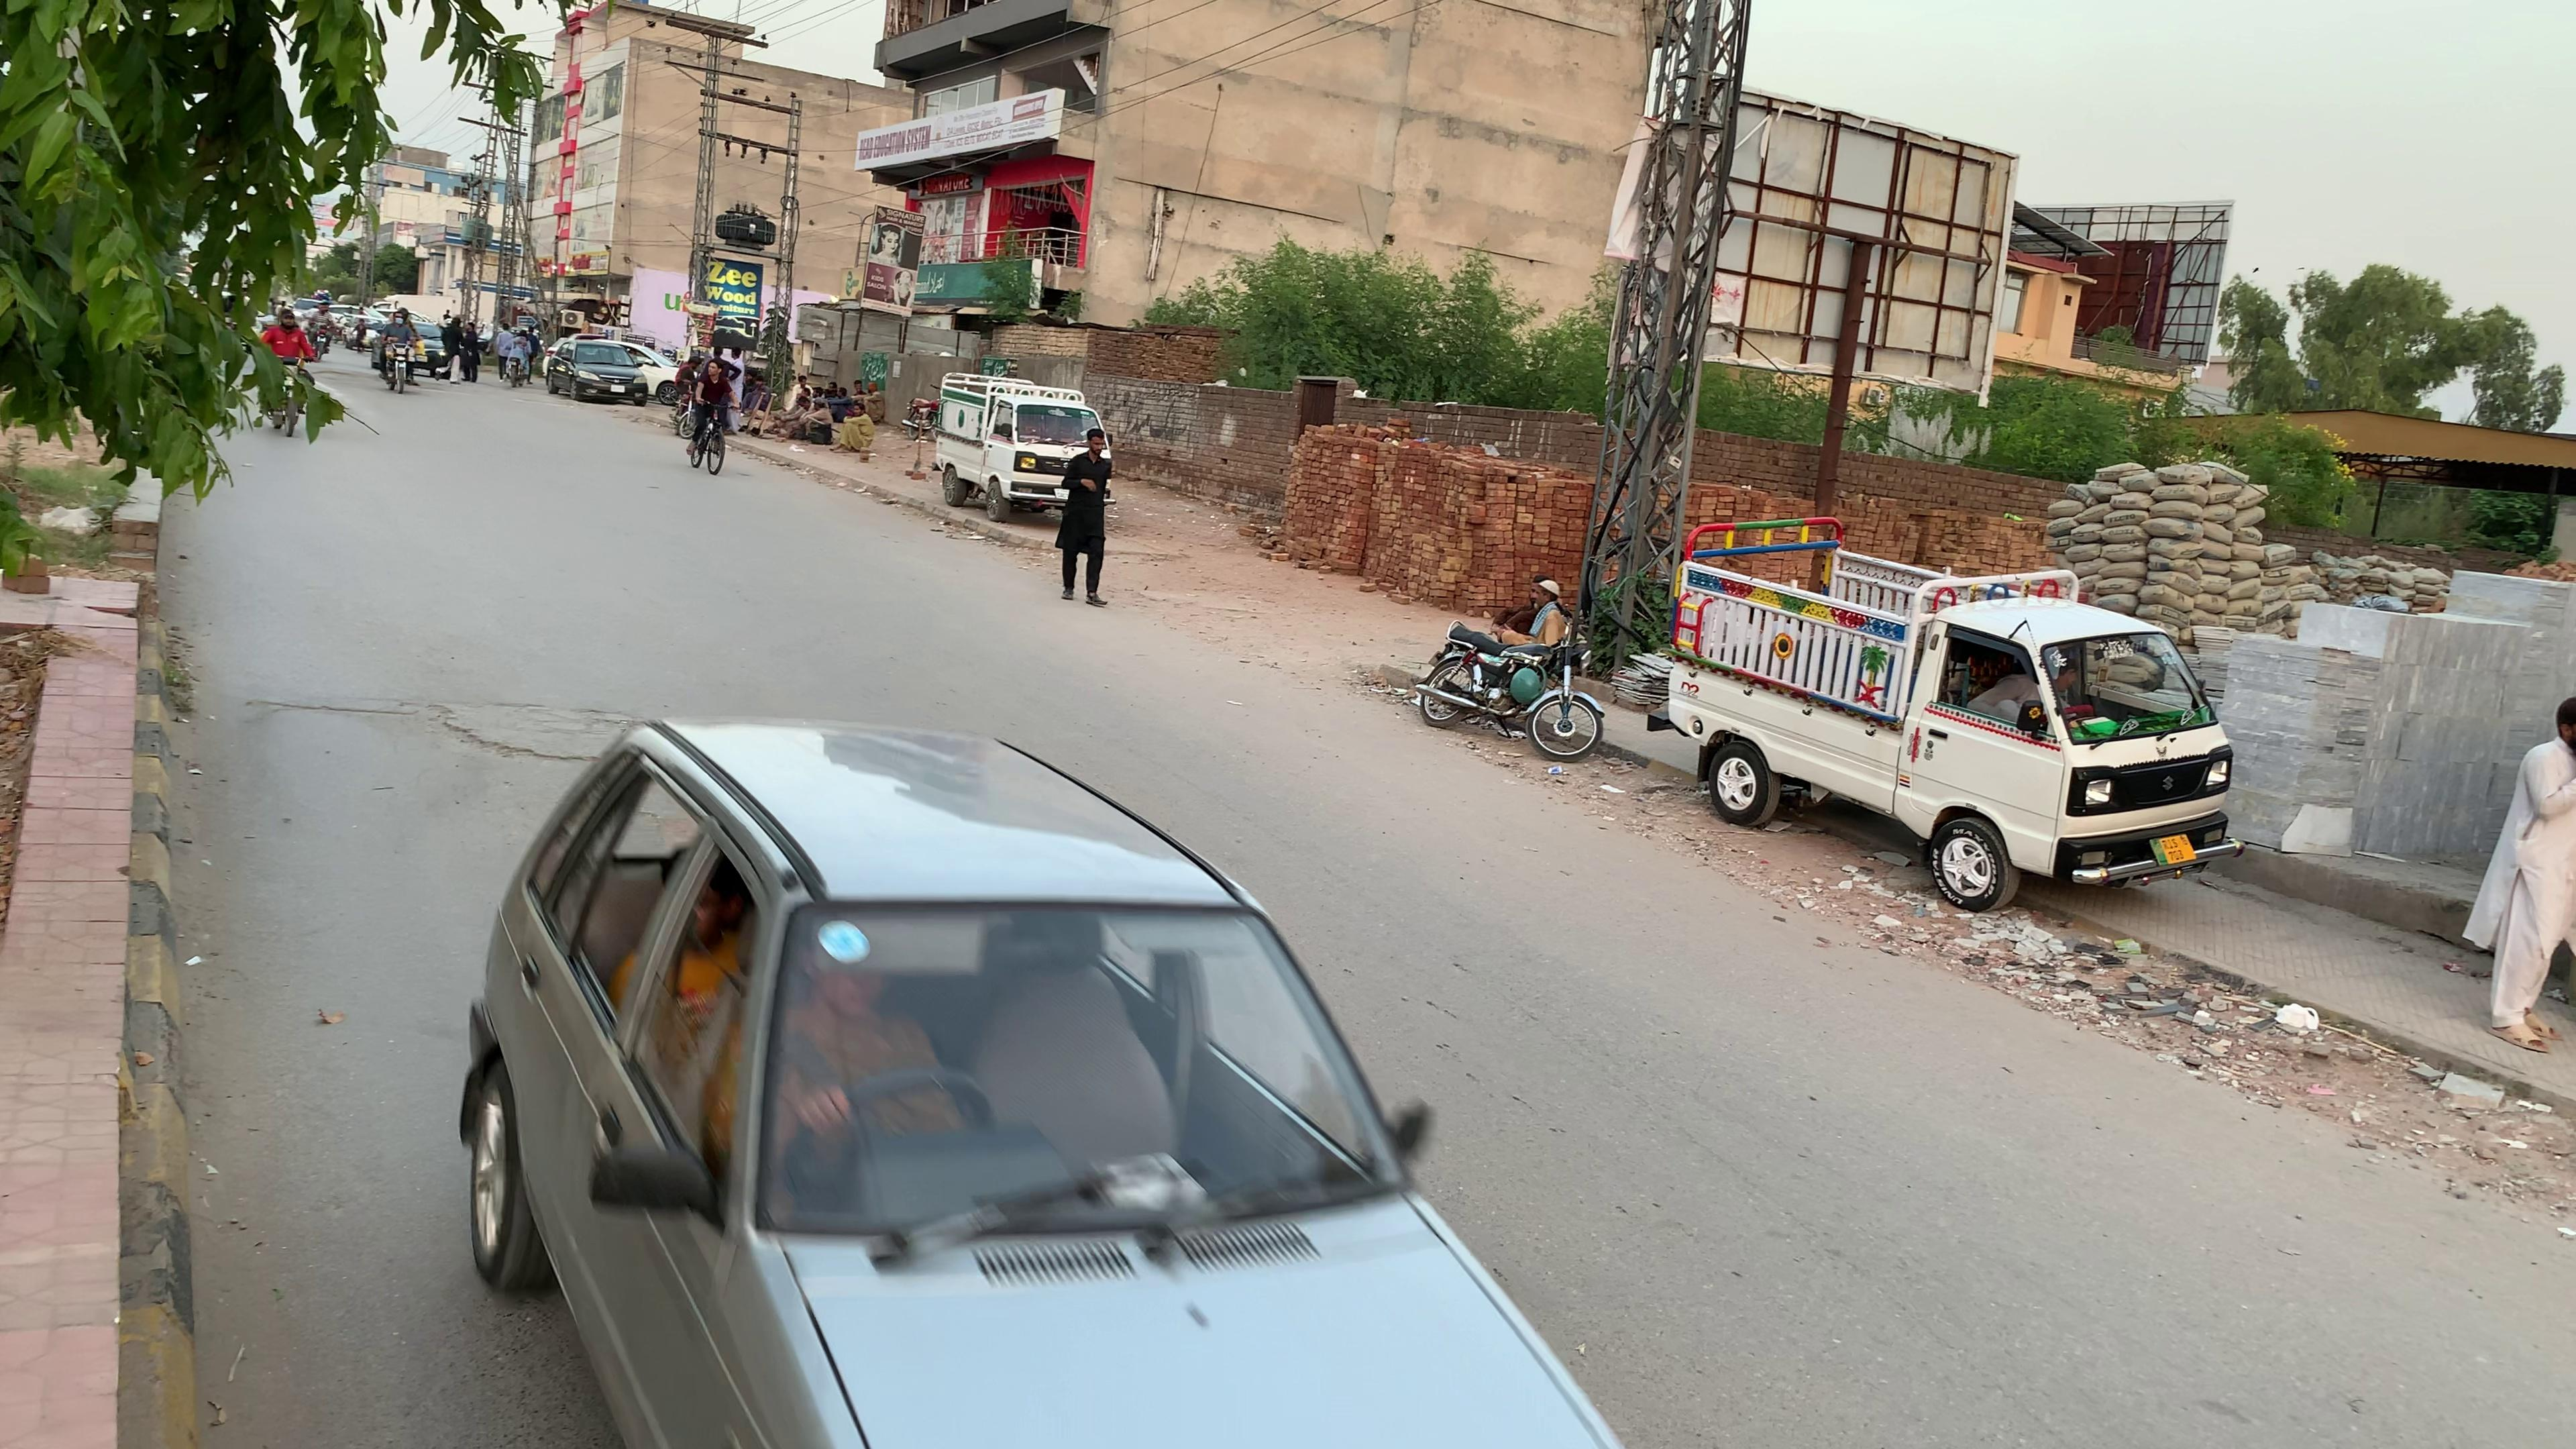windshield: (740, 892, 1415, 1265), (2019, 617, 2227, 755)
